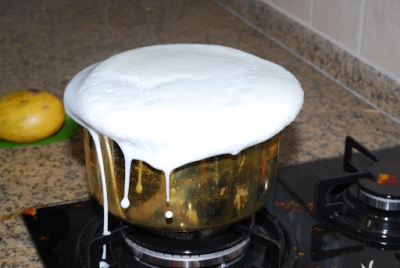Boiled: (60, 42, 302, 204)
